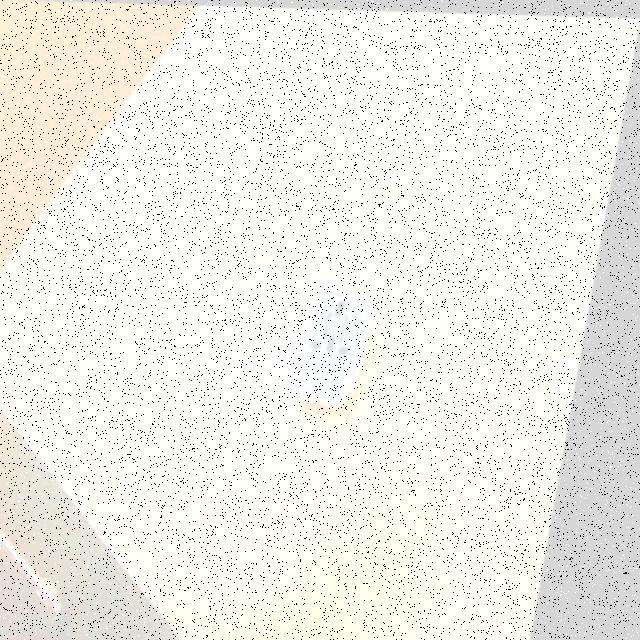adapter: (294, 283, 388, 407)
